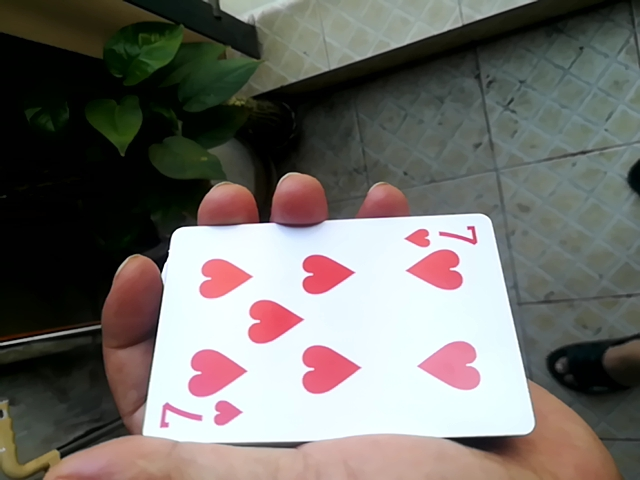hx 7: (158, 214, 531, 448)
